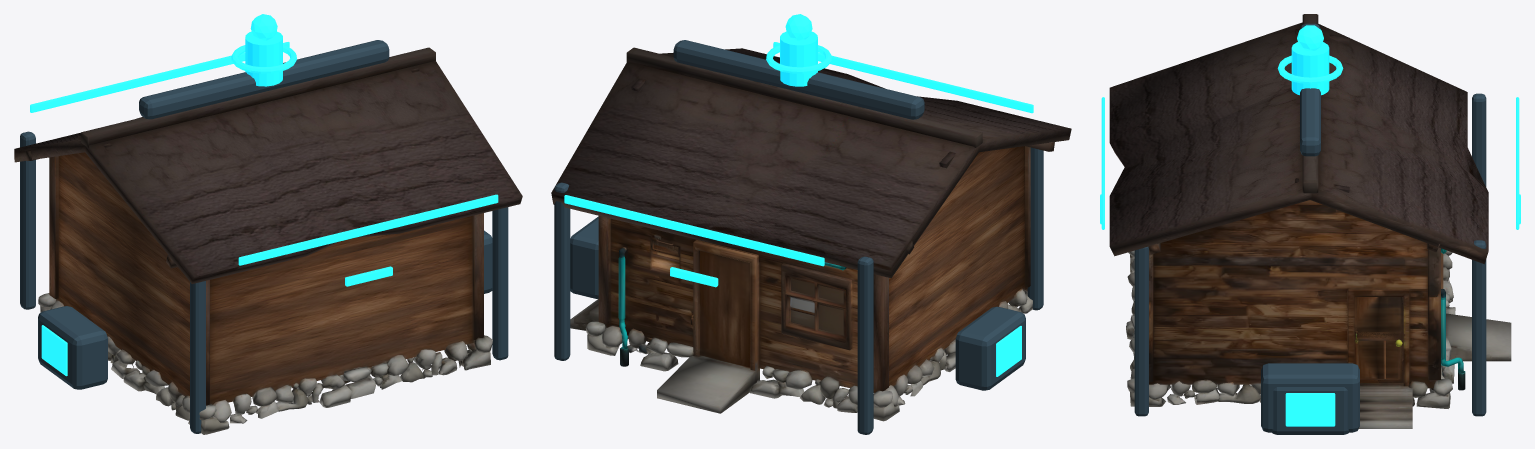
File: stage-1-lv3.glb
3 renders of one model, left to right at view 1: azimuth 30°, elevation 25°; view 2: azimuth 150°, elevation 25°; view 3: azimuth 270°, elevation 25°, orthographic.
Visible parts, largest first — view 1: tripo_node_090bf2b8-ffb3-42c9-9c9e-4cc50317c1fc, Lv3 roof energy spine, Lv3 side energy cell, Lv2 corner reinforcement.001, Lv2 corner reinforcement.002, Lv3 facade energy band, Lv2 corner reinforcement, Lv3 facade energy band.001, Lv3 roof power core, Lv3 side cell glow, Lv3 power halo, Lv3 core crystal (+2 smaller); view 2: tripo_node_090bf2b8-ffb3-42c9-9c9e-4cc50317c1fc, Lv3 roof energy spine, Lv3 side energy cell, Lv2 corner reinforcement.001, Lv2 corner reinforcement.003, Lv3 facade energy band.001, Lv2 corner reinforcement, Lv2 east power module, Lv3 facade energy band, Lv3 roof power core, Lv3 side cell glow, Lv3 power halo (+2 smaller); view 3: tripo_node_090bf2b8-ffb3-42c9-9c9e-4cc50317c1fc, Lv2 east power module, Lv2 corner reinforcement.002, Lv2 corner reinforcement.003, Lv3 side energy cell.001, Lv3 side cell glow.001, Lv3 roof power core, Lv3 roof energy spine, Lv2 corner reinforcement.001, Lv3 power halo, Lv3 core crystal, Lv3 facade energy band (+1 smaller).
Boxes of the visible parts, x1,y1,x2,y2 form: tripo_node_090bf2b8-ffb3-42c9-9c9e-4cc50317c1fc: (14,47,522,434); Lv3 roof energy spine: (139,40,389,119); Lv3 side energy cell: (38,306,107,389); Lv2 corner reinforcement.001: (20,131,35,309); Lv2 corner reinforcement.002: (492,207,508,360); Lv3 facade energy band: (238,194,498,265); Lv2 corner reinforcement: (190,281,205,433); Lv3 facade energy band.001: (30,42,289,112); Lv3 roof power core: (245,31,282,86); Lv3 side cell glow: (41,325,67,376); Lv3 power halo: (231,45,296,73); Lv3 core crystal: (250,14,277,40); tripo_node_090bf2b8-ffb3-42c9-9c9e-4cc50317c1fc: (551,47,1071,421); Lv3 roof energy spine: (673,40,924,119); Lv3 side energy cell: (955,306,1025,390); Lv2 corner reinforcement.001: (857,256,873,434); Lv2 corner reinforcement.003: (554,182,570,360); Lv3 facade energy band.001: (564,195,824,266); Lv2 corner reinforcement: (1027,147,1043,310); Lv2 east power module: (570,216,598,298); Lv3 facade energy band: (773,42,1033,113); Lv3 roof power core: (780,31,817,86); Lv3 side cell glow: (996,326,1021,376); Lv3 power halo: (766,45,831,73); tripo_node_090bf2b8-ffb3-42c9-9c9e-4cc50317c1fc: (1109,14,1511,428); Lv2 east power module: (1261,363,1359,432); Lv2 corner reinforcement.002: (1134,246,1148,416); Lv2 corner reinforcement.003: (1472,240,1486,416); Lv3 side energy cell.001: (1272,387,1348,434); Lv3 side cell glow.001: (1285,393,1335,426); Lv3 roof power core: (1291,42,1329,95); Lv3 roof energy spine: (1300,23,1320,156); Lv2 corner reinforcement.001: (1472,93,1486,186); Lv3 power halo: (1277,55,1343,83); Lv3 core crystal: (1297,25,1323,50); Lv3 facade energy band: (1101,97,1104,229).
Bounding box in the file's own units: 3.63 × 2.62 × 3.17.
Materials: 4 (1 with a texture image).
